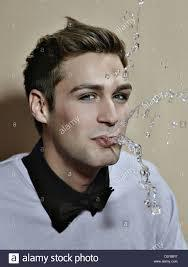spitting: (8, 7, 183, 244)
